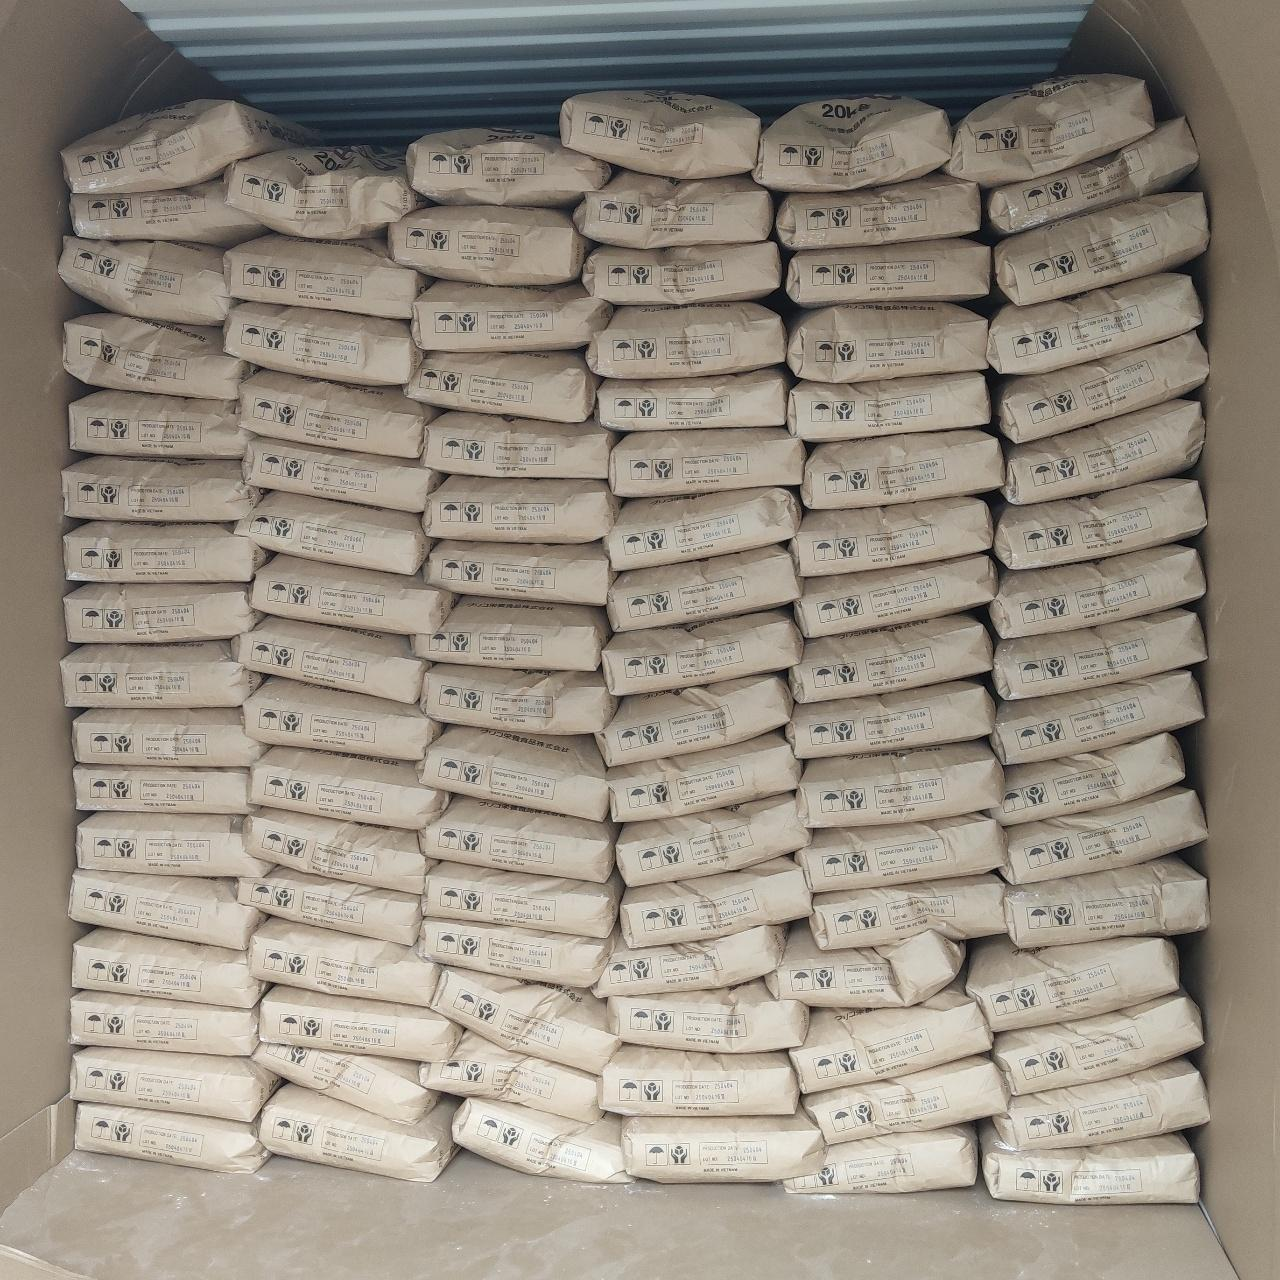sack: (944, 73, 1156, 188), (986, 120, 1197, 234), (994, 192, 1208, 304), (992, 331, 1207, 441), (61, 100, 316, 192), (790, 982, 992, 1092), (994, 990, 1201, 1095), (987, 273, 1201, 374), (1002, 399, 1204, 503), (990, 543, 1205, 638), (430, 967, 618, 1073), (966, 938, 1177, 1032), (990, 670, 1203, 763), (1001, 787, 1207, 881), (259, 1083, 456, 1182), (993, 608, 1207, 699), (992, 478, 1206, 568), (1003, 855, 1208, 947), (753, 96, 951, 191), (998, 1058, 1207, 1148), (226, 147, 425, 239), (980, 1121, 1198, 1204), (990, 733, 1184, 825), (617, 792, 809, 885), (798, 741, 1003, 828), (560, 90, 761, 178), (804, 1056, 1007, 1143), (420, 727, 608, 819), (597, 675, 791, 764), (791, 615, 992, 701), (620, 857, 810, 947), (607, 731, 799, 821), (226, 234, 431, 318), (602, 610, 801, 695), (241, 806, 434, 894), (248, 917, 440, 1005), (240, 370, 434, 457), (765, 922, 964, 1007), (795, 554, 998, 636), (418, 1032, 602, 1121), (420, 798, 617, 881), (787, 680, 995, 758), (248, 747, 448, 829), (607, 545, 801, 629), (224, 302, 422, 384), (236, 491, 430, 574), (799, 813, 1005, 892), (787, 302, 988, 382), (605, 488, 799, 570), (232, 617, 421, 701), (250, 554, 452, 633), (64, 313, 250, 399), (802, 429, 1003, 508), (244, 679, 440, 760), (777, 172, 980, 250), (389, 205, 588, 284), (792, 497, 992, 576), (574, 170, 772, 248), (68, 869, 260, 949), (407, 129, 611, 205), (57, 236, 231, 325), (72, 928, 264, 1008), (72, 1047, 278, 1121), (259, 986, 461, 1060), (252, 1042, 438, 1122), (422, 862, 619, 937), (587, 302, 784, 377), (452, 1098, 627, 1182), (811, 874, 1005, 949), (784, 238, 990, 307), (244, 440, 438, 512), (787, 372, 990, 441), (602, 1044, 798, 1116), (621, 1112, 823, 1182), (608, 981, 806, 1051), (411, 281, 612, 350), (411, 599, 606, 669), (422, 663, 615, 734), (784, 1124, 978, 1194), (406, 350, 595, 422), (610, 428, 805, 497), (421, 411, 619, 479), (418, 918, 612, 987), (237, 869, 421, 941), (74, 1102, 266, 1171), (593, 926, 781, 996), (69, 178, 263, 246), (423, 475, 619, 542), (62, 641, 260, 707), (63, 456, 263, 519), (76, 812, 270, 877), (70, 390, 252, 458), (583, 241, 781, 304), (597, 367, 788, 430), (64, 522, 265, 581), (72, 990, 257, 1055), (64, 583, 263, 642), (425, 542, 612, 605), (72, 709, 264, 765), (74, 767, 259, 815)
